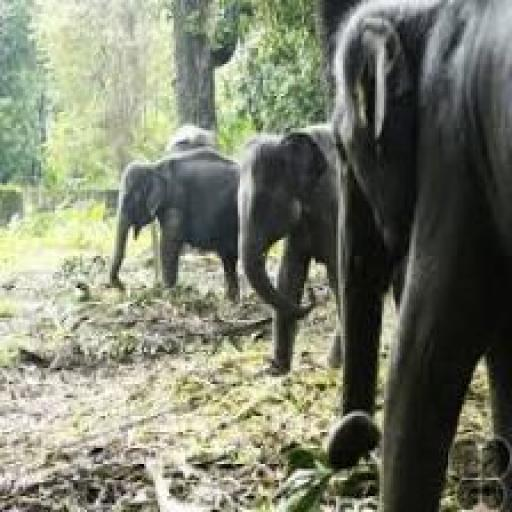Elephant: (327, 16, 507, 491), (84, 149, 238, 362), (247, 128, 352, 394)
